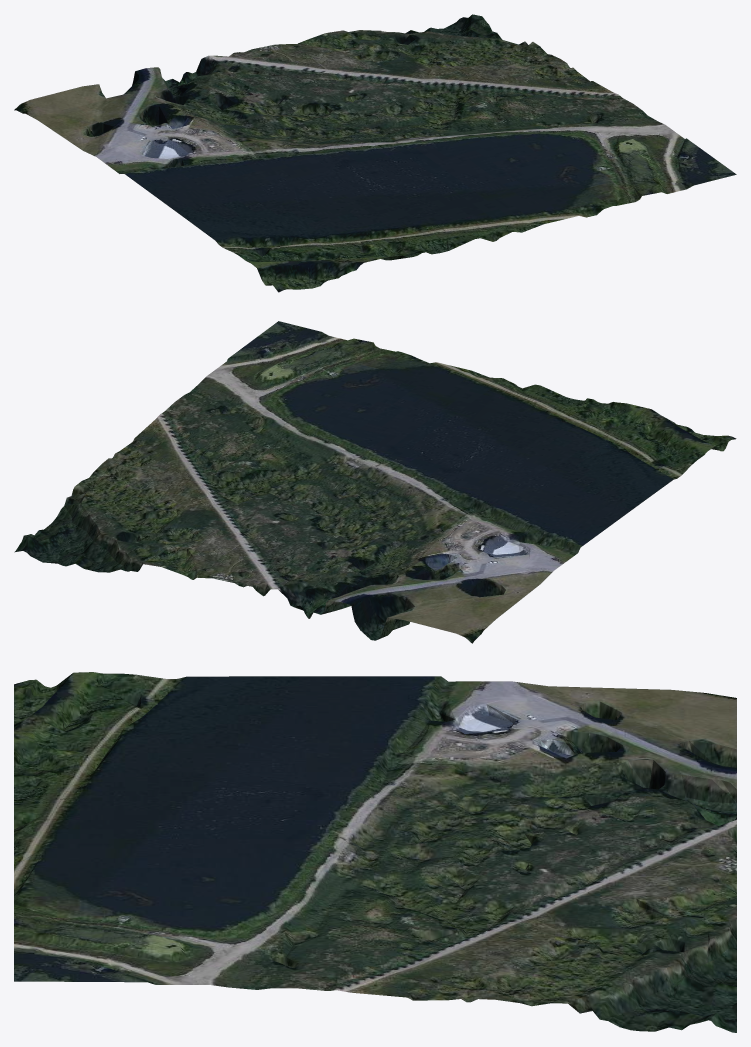
File: map_13_2046_3443.dae
3 renders of one model, top to bottom at view 1: azimuth 30°, elevation 25°; view 2: azimuth 150°, elevation 25°; view 3: azimuth 270°, elevation 25°, orthographic. The views are drawn at different scales.
Parts seen in each view (by area): view 1: Ter0; view 2: Ter0; view 3: Ter0.
Boxes of the visible parts, x1,y1,x2,y2 form: Ter0: (14, 14, 736, 292); Ter0: (14, 321, 736, 643); Ter0: (14, 672, 736, 1032).
Bounding box in the file's own units: 256 × 256 × 23.32.
2 materials, 2 textured.
